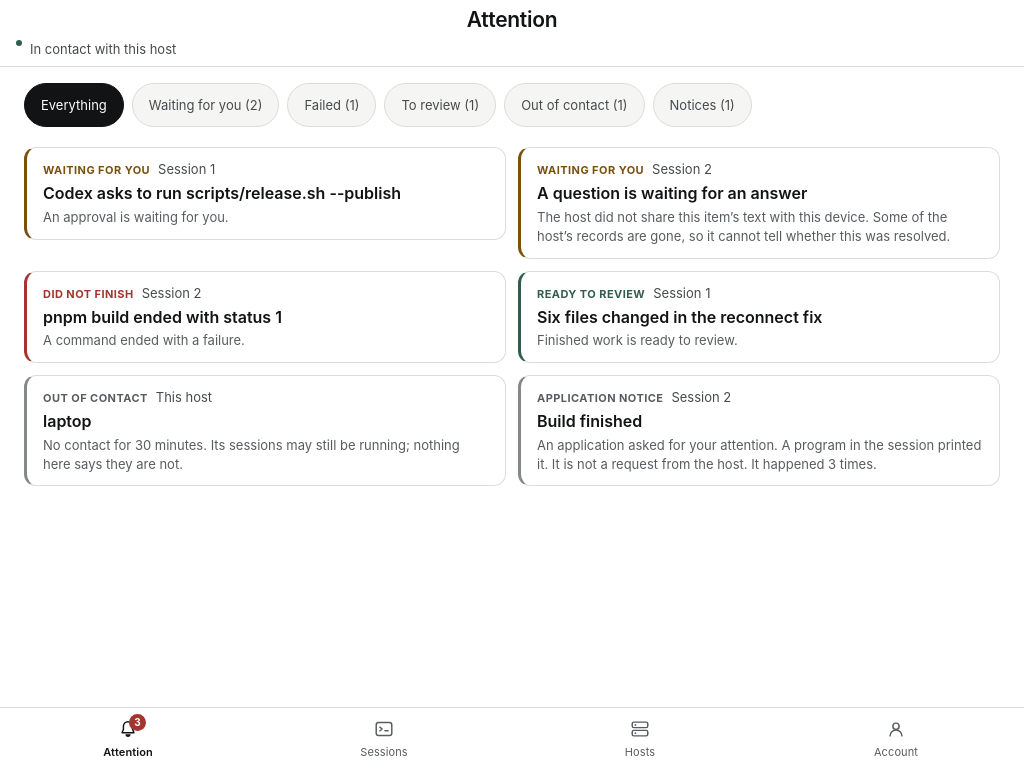
Test: the Hosts screen of a phone › sends the commands to the host the person chooses, and says it is in use
This screenshot has width=1024, height=768.
Click the button "Hosts": (640, 738) [512,708,768,767]
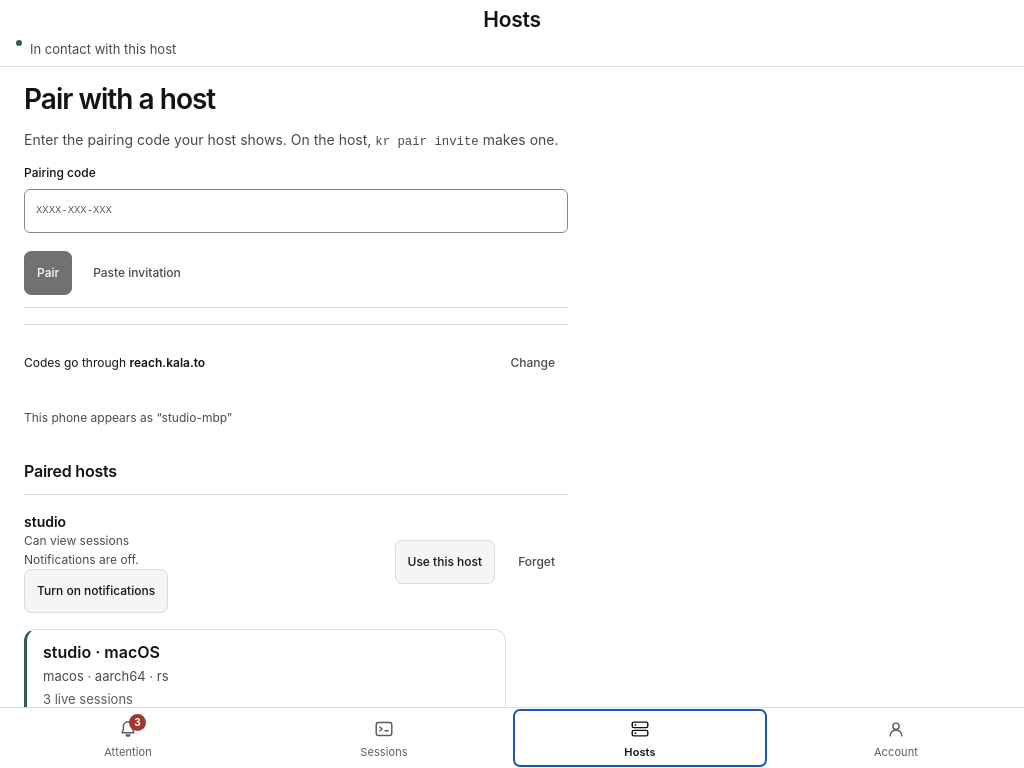
Click the button with test id "use-host": (445, 562) [394,540,495,584]
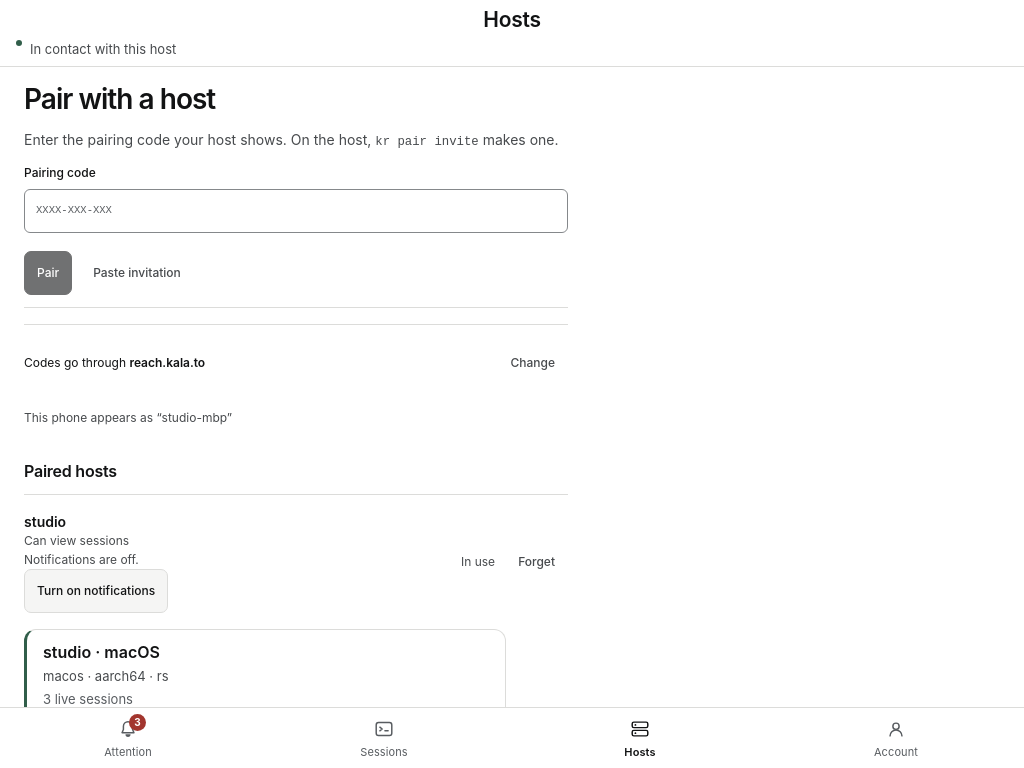
Now the text with test id "host-in-use" reads "In use", box [461,554,495,569]
Now the button with test id "use-host" is gone
